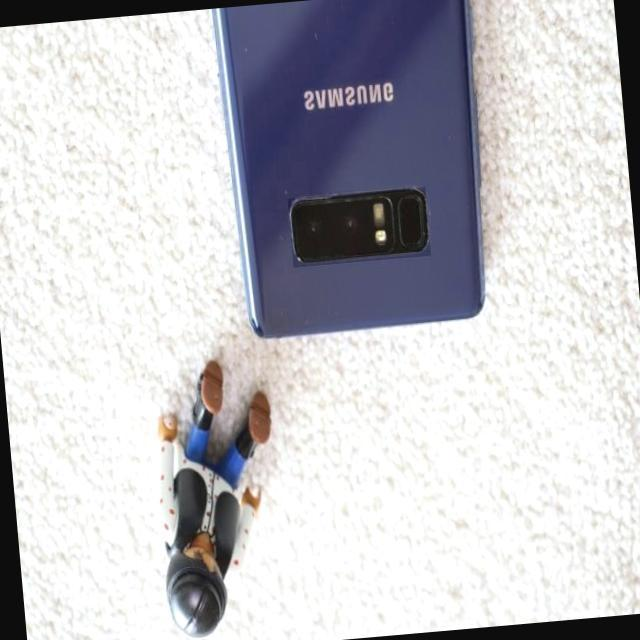lens: (280, 179, 435, 269)
phone: (212, 0, 504, 357)
